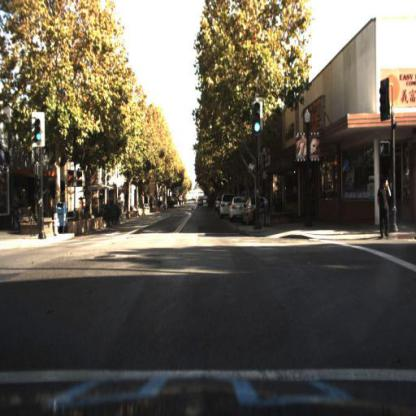car: (242, 199, 269, 231), (231, 206, 250, 238), (219, 192, 236, 226), (231, 200, 246, 220), (221, 196, 229, 220), (197, 202, 205, 214)
pedestrian: (383, 179, 399, 244), (381, 178, 396, 243), (256, 202, 268, 244), (11, 195, 20, 227)
trafficLight: (252, 100, 264, 138)
trafficLight-Green: (34, 115, 43, 150)
